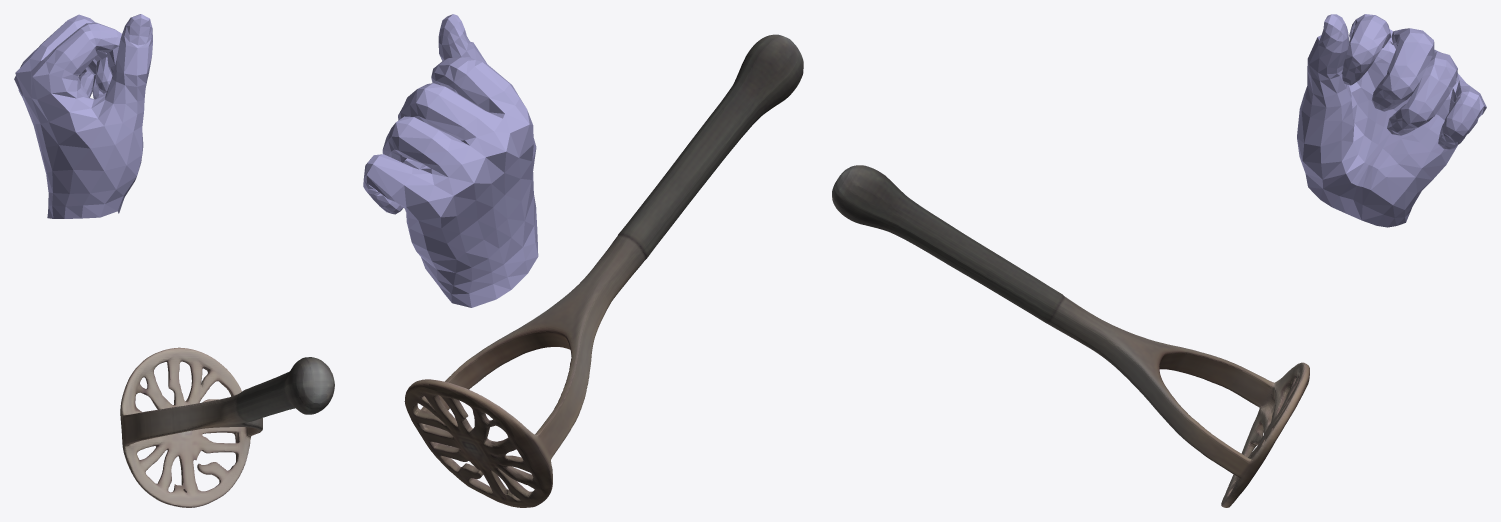
The model's file is frame_0077_source_000077_hand_object.glb.
3 views of the same model, side by side, from view 1: azimuth 30°, elevation 25°; view 2: azimuth 150°, elevation 25°; view 3: azimuth 270°, elevation 25° (orthographic). The views are drawn at different scales.
Parts seen in each view (by area): view 1: world; view 2: world; view 3: world.
Part boxes in pixels (box(x1,y1,x2,y2)): world: box(14, 14, 334, 507); world: box(363, 14, 803, 507); world: box(832, 14, 1486, 507).
Size of the model in its own units: 0.0961 by 0.2665 by 0.3269.
